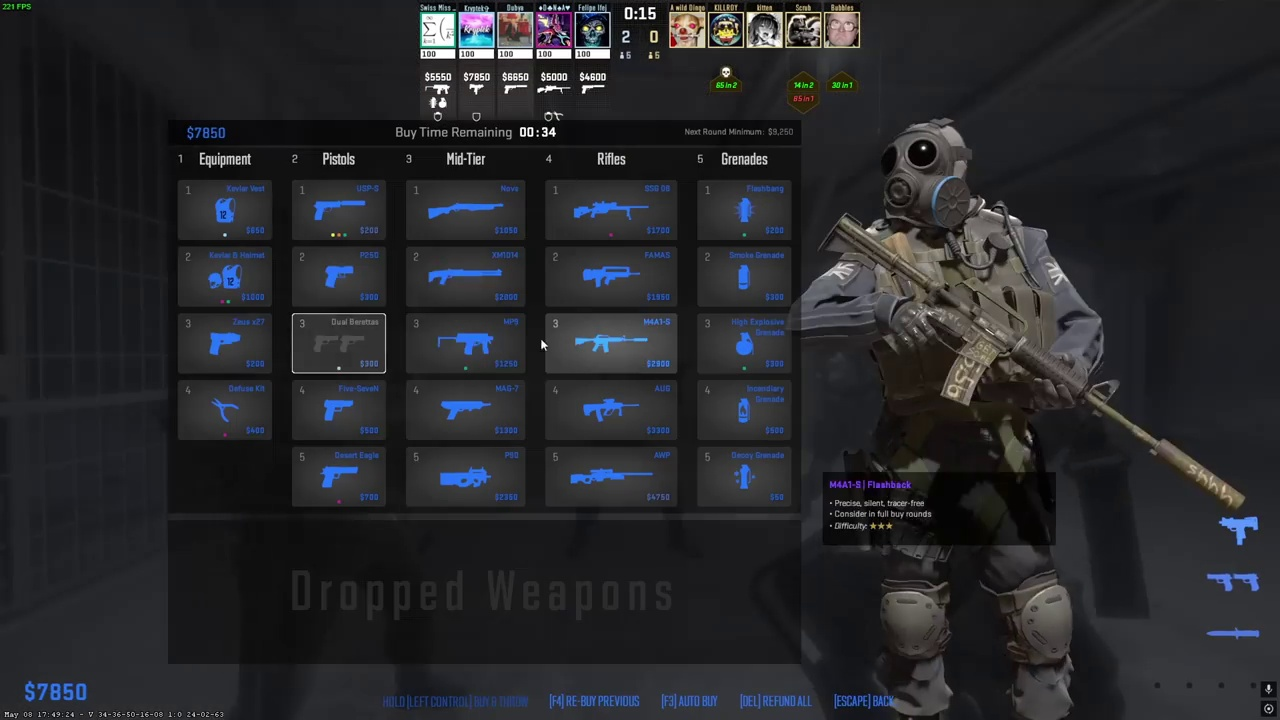CT: (851, 120, 1096, 720)
